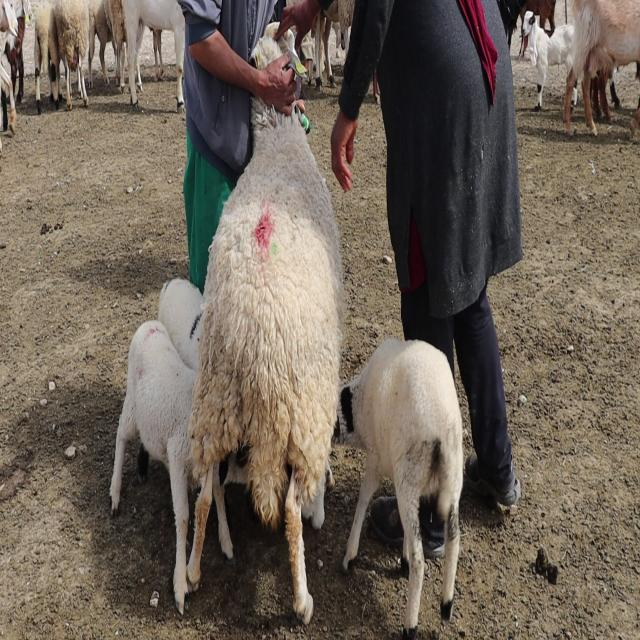Score_4: (188, 98, 345, 624)
